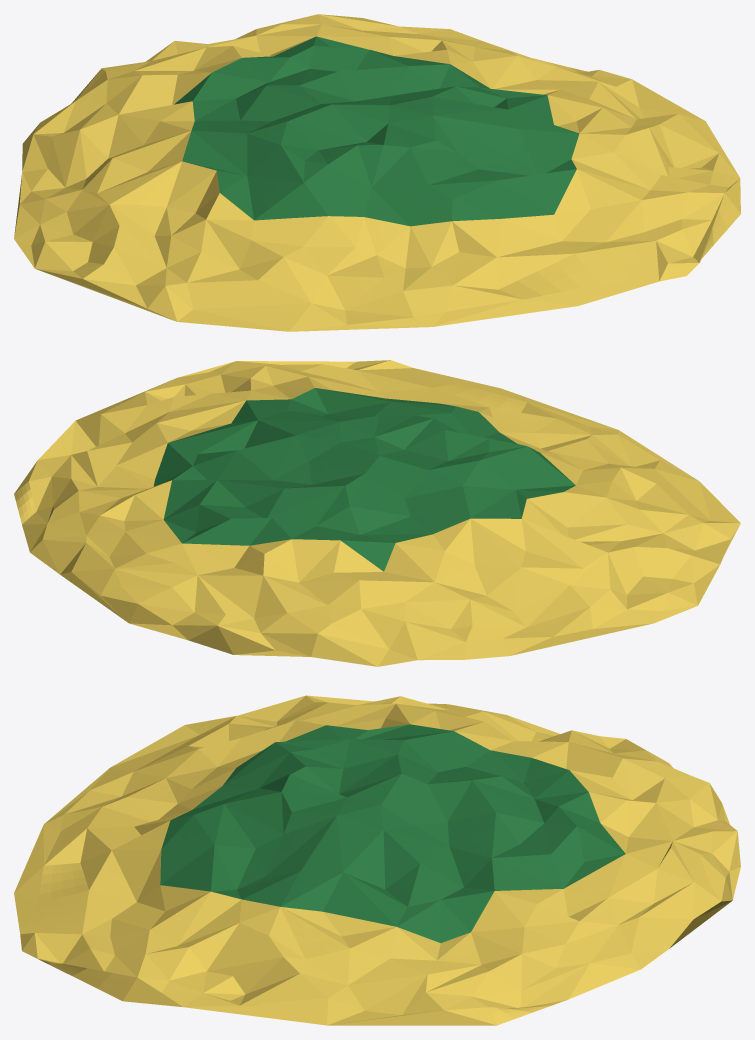
The model's file is Ile.glb.
3 renders of one model, top to bottom at view 1: azimuth 30°, elevation 25°; view 2: azimuth 150°, elevation 25°; view 3: azimuth 270°, elevation 25°, orthographic. The views are drawn at different scales.
Parts seen in each view (by area): view 1: Ile; view 2: Ile; view 3: Ile.
Part boxes in pixels (box(x1,y1,x2,y2)): Ile: box(14, 14, 740, 331); Ile: box(14, 360, 740, 666); Ile: box(14, 695, 740, 1025).
Size of what is drawn, in the model's own units: 16.58 by 2.05 by 15.32.
